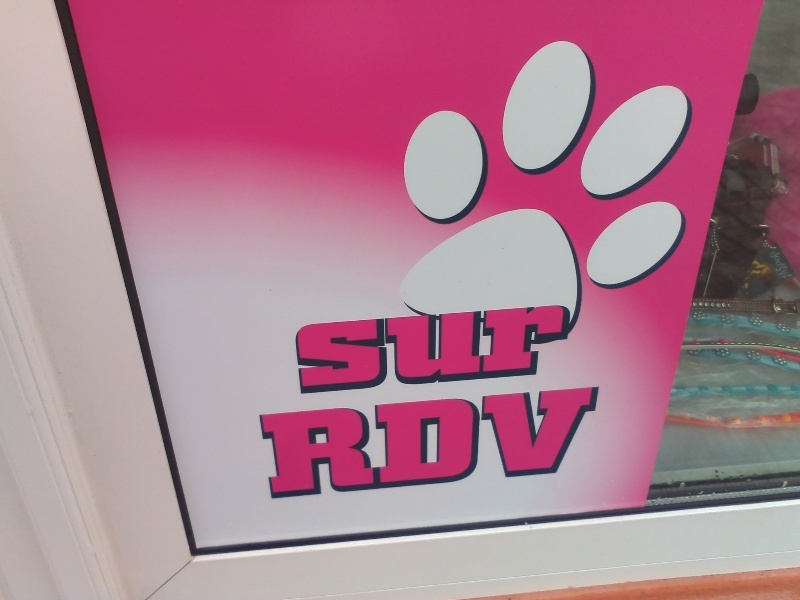text: (273, 384, 288, 502), (289, 384, 304, 502), (305, 384, 320, 502), (321, 384, 336, 502), (337, 384, 352, 502), (353, 384, 368, 502), (369, 384, 384, 502), (385, 384, 400, 502), (401, 384, 416, 502), (417, 384, 432, 502), (433, 384, 448, 502), (449, 384, 464, 502), (465, 384, 480, 502), (481, 384, 496, 502), (497, 384, 512, 502), (513, 384, 528, 502), (529, 384, 544, 502), (545, 384, 560, 502), (561, 384, 576, 502), (577, 384, 592, 502), (593, 384, 608, 502), (258, 384, 272, 502), (305, 302, 320, 395), (321, 302, 336, 395), (337, 302, 352, 395), (353, 302, 368, 395), (369, 302, 384, 395), (385, 302, 400, 395), (401, 302, 416, 395), (417, 302, 432, 395), (433, 302, 448, 395), (449, 302, 464, 395), (465, 302, 480, 395), (481, 302, 496, 395), (497, 302, 512, 395), (513, 302, 528, 395), (529, 302, 544, 395), (545, 302, 560, 395), (561, 302, 576, 395), (292, 302, 304, 395), (785, 246, 795, 282), (577, 302, 579, 395), (780, 246, 784, 282), (609, 384, 610, 502)
